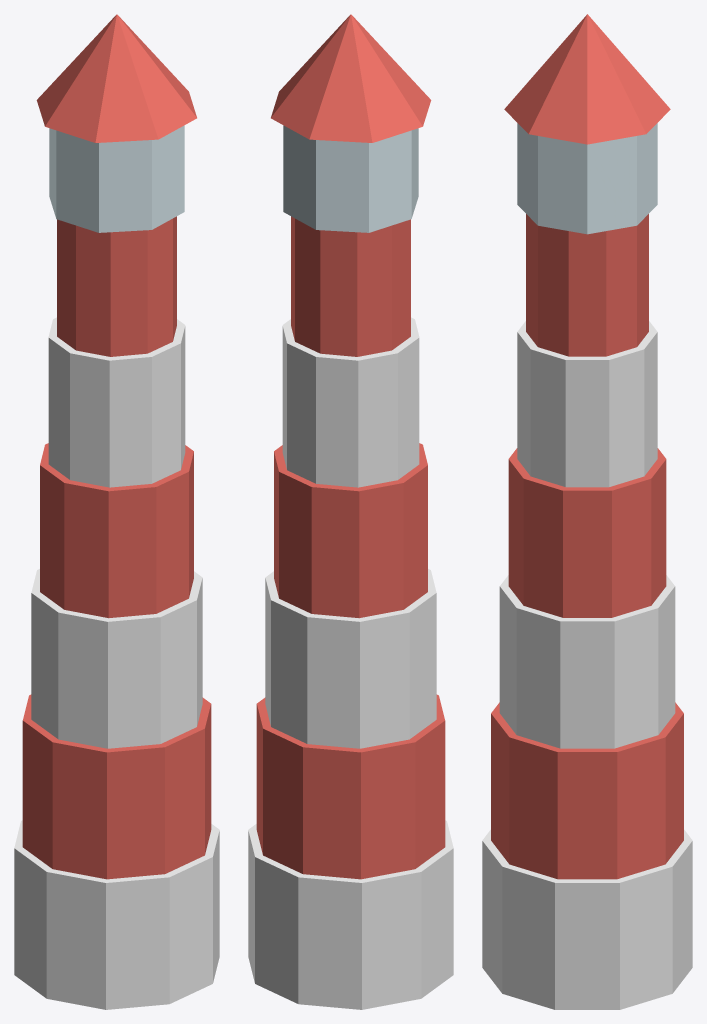
File: Lighthouse.fbx
3 views of the same model, side by side, from view 1: azimuth 30°, elevation 25°; view 2: azimuth 150°, elevation 25°; view 3: azimuth 270°, elevation 25° (orthographic).
Visible parts, largest first — view 1: Body; view 2: Body; view 3: Body.
Boxes of the visible parts, bbox=[...] form: Body: bbox=[14, 14, 219, 1009]; Body: bbox=[248, 14, 453, 1009]; Body: bbox=[482, 14, 692, 1009].
Size of the model in its own units: 2.28 by 12 by 2.4.
